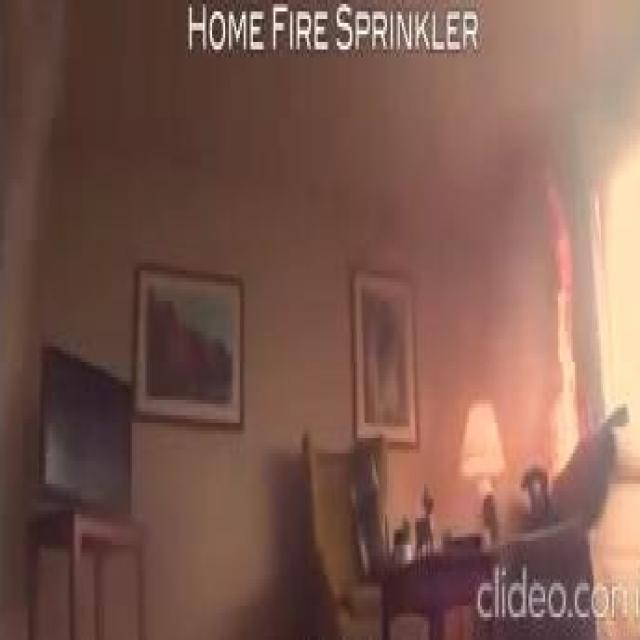smoke: (532, 175, 582, 484)
